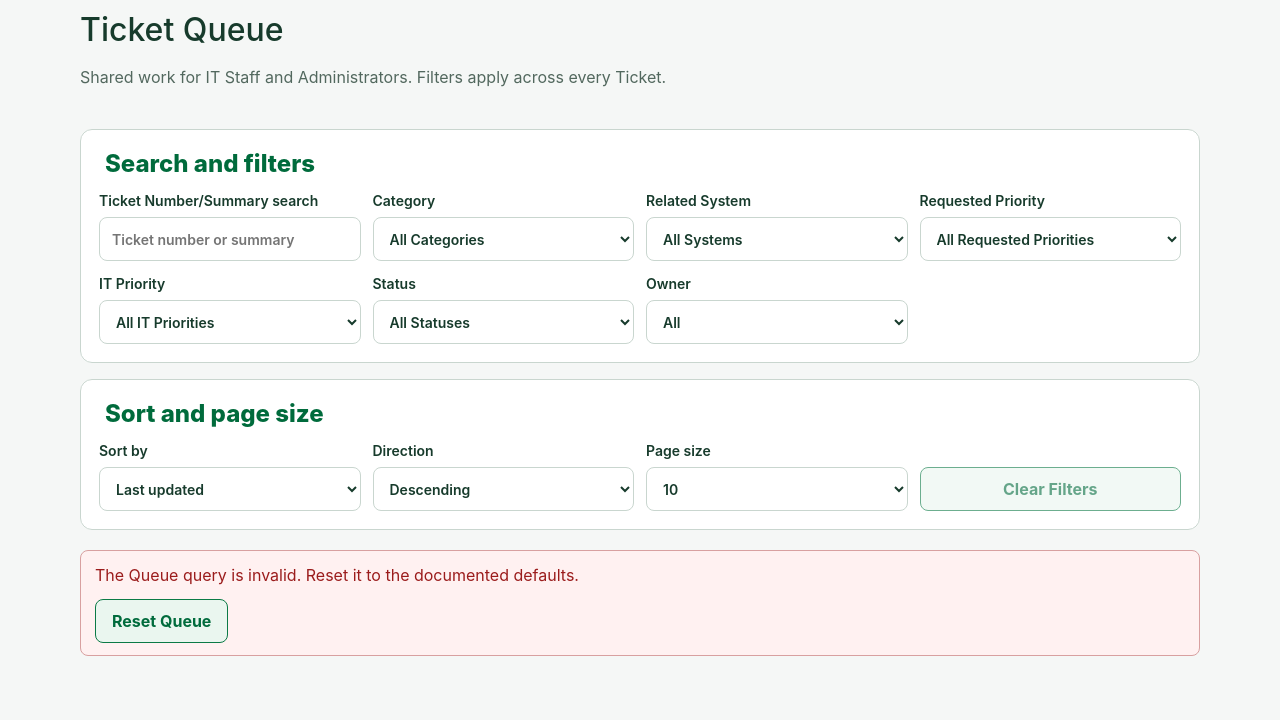
Test: UI-05 Staff Ticket Queue › resets an invalid query to defaults
(page scrolled)
expect the heading "Ticket Queue" is shown: met, box [80,10,284,49]
expect the message shows "query is invalid": met, box [95,565,579,585]
Click the button "Reset Queue" at [162, 621], box [95,599,228,643]
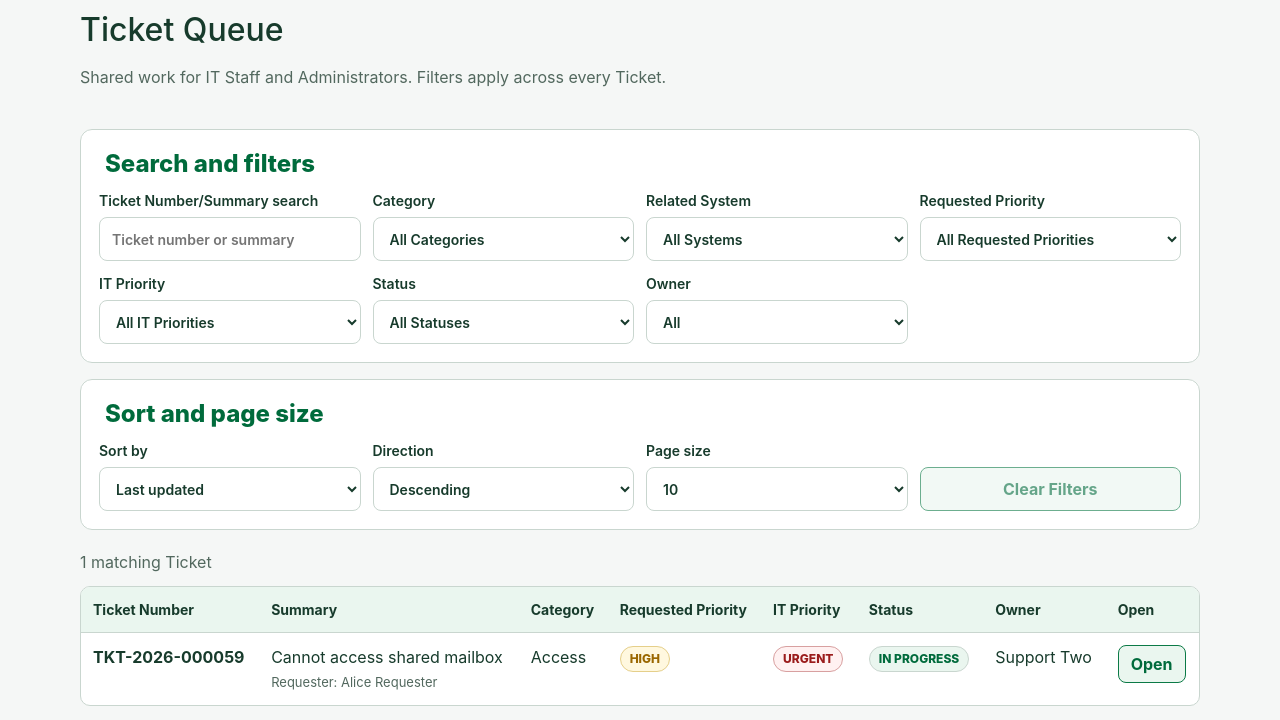
expect the text "1 matching Ticket" is shown: met, box [80,552,212,572]
